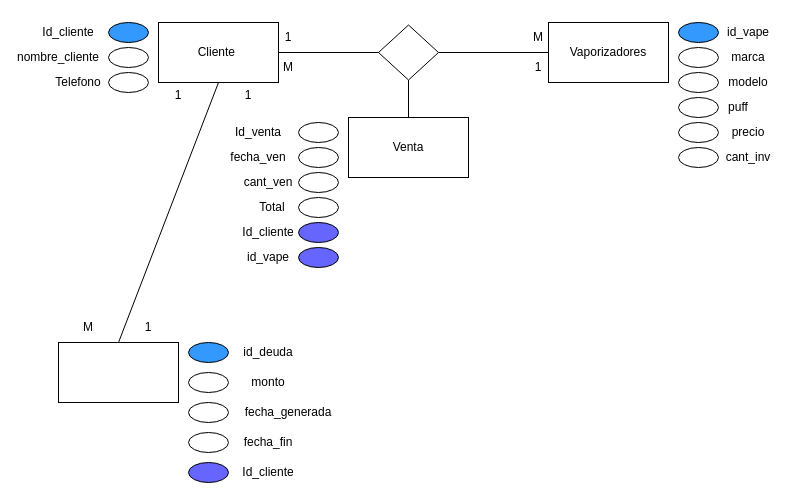
Some shapes in this 795 by 504 pixel diagram are drawn without their labels. Each missing label, with the centre of its shape:
"Deuda" belongs at [118,372].
"M:N" belongs at [408,52].
